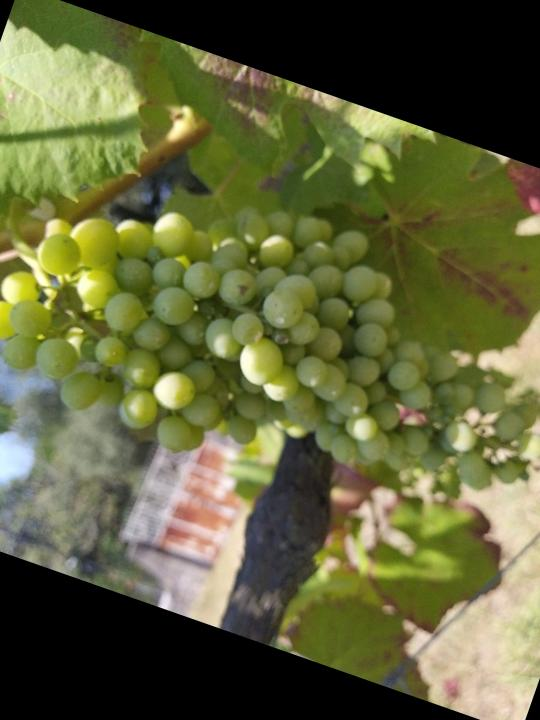grape: (0, 119, 540, 587)
